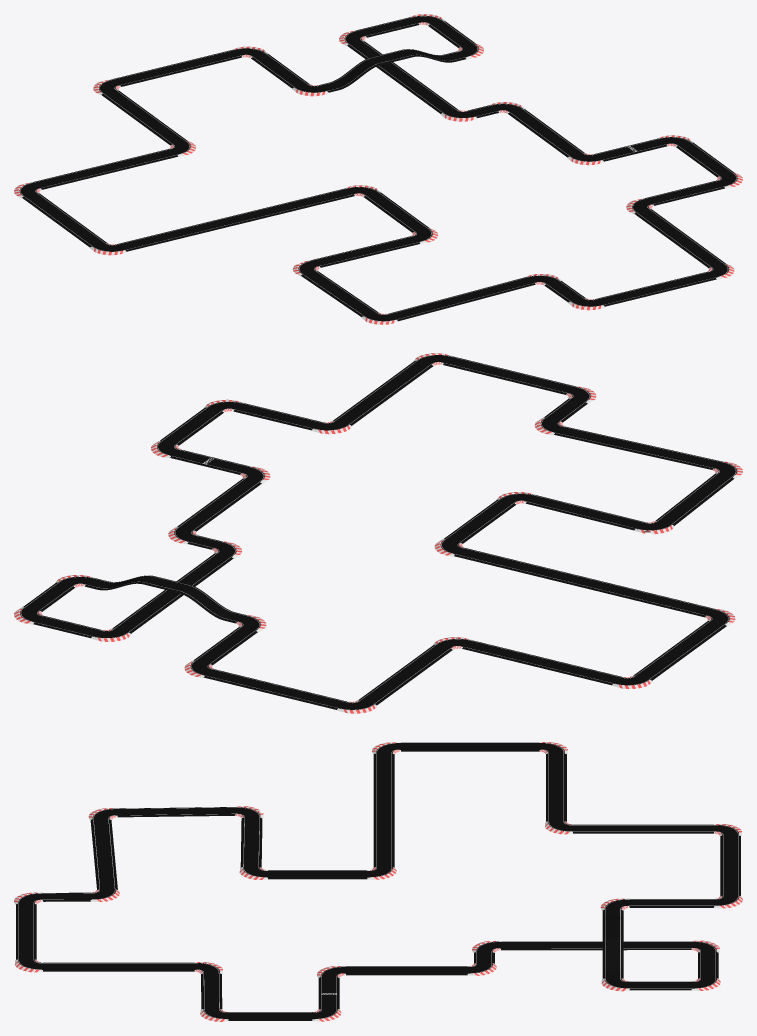
Rendered from racetrack2.fbx.
The picture shows the model from 3 angles, top to bottom: view 1: azimuth 30°, elevation 25°; view 2: azimuth 150°, elevation 25°; view 3: azimuth 270°, elevation 25°; orthographic projection. The views are drawn at different scales.
Visible parts, largest first — view 1: cesta; view 2: cesta; view 3: cesta.
Boxes of the visible parts, x1=… form: cesta: x1=14, y1=14, x2=742, y2=324; cesta: x1=14, y1=353, x2=742, y2=713; cesta: x1=14, y1=742, x2=742, y2=1021.
Bounding box in the file's own units: 31608 × 854 × 34802.
